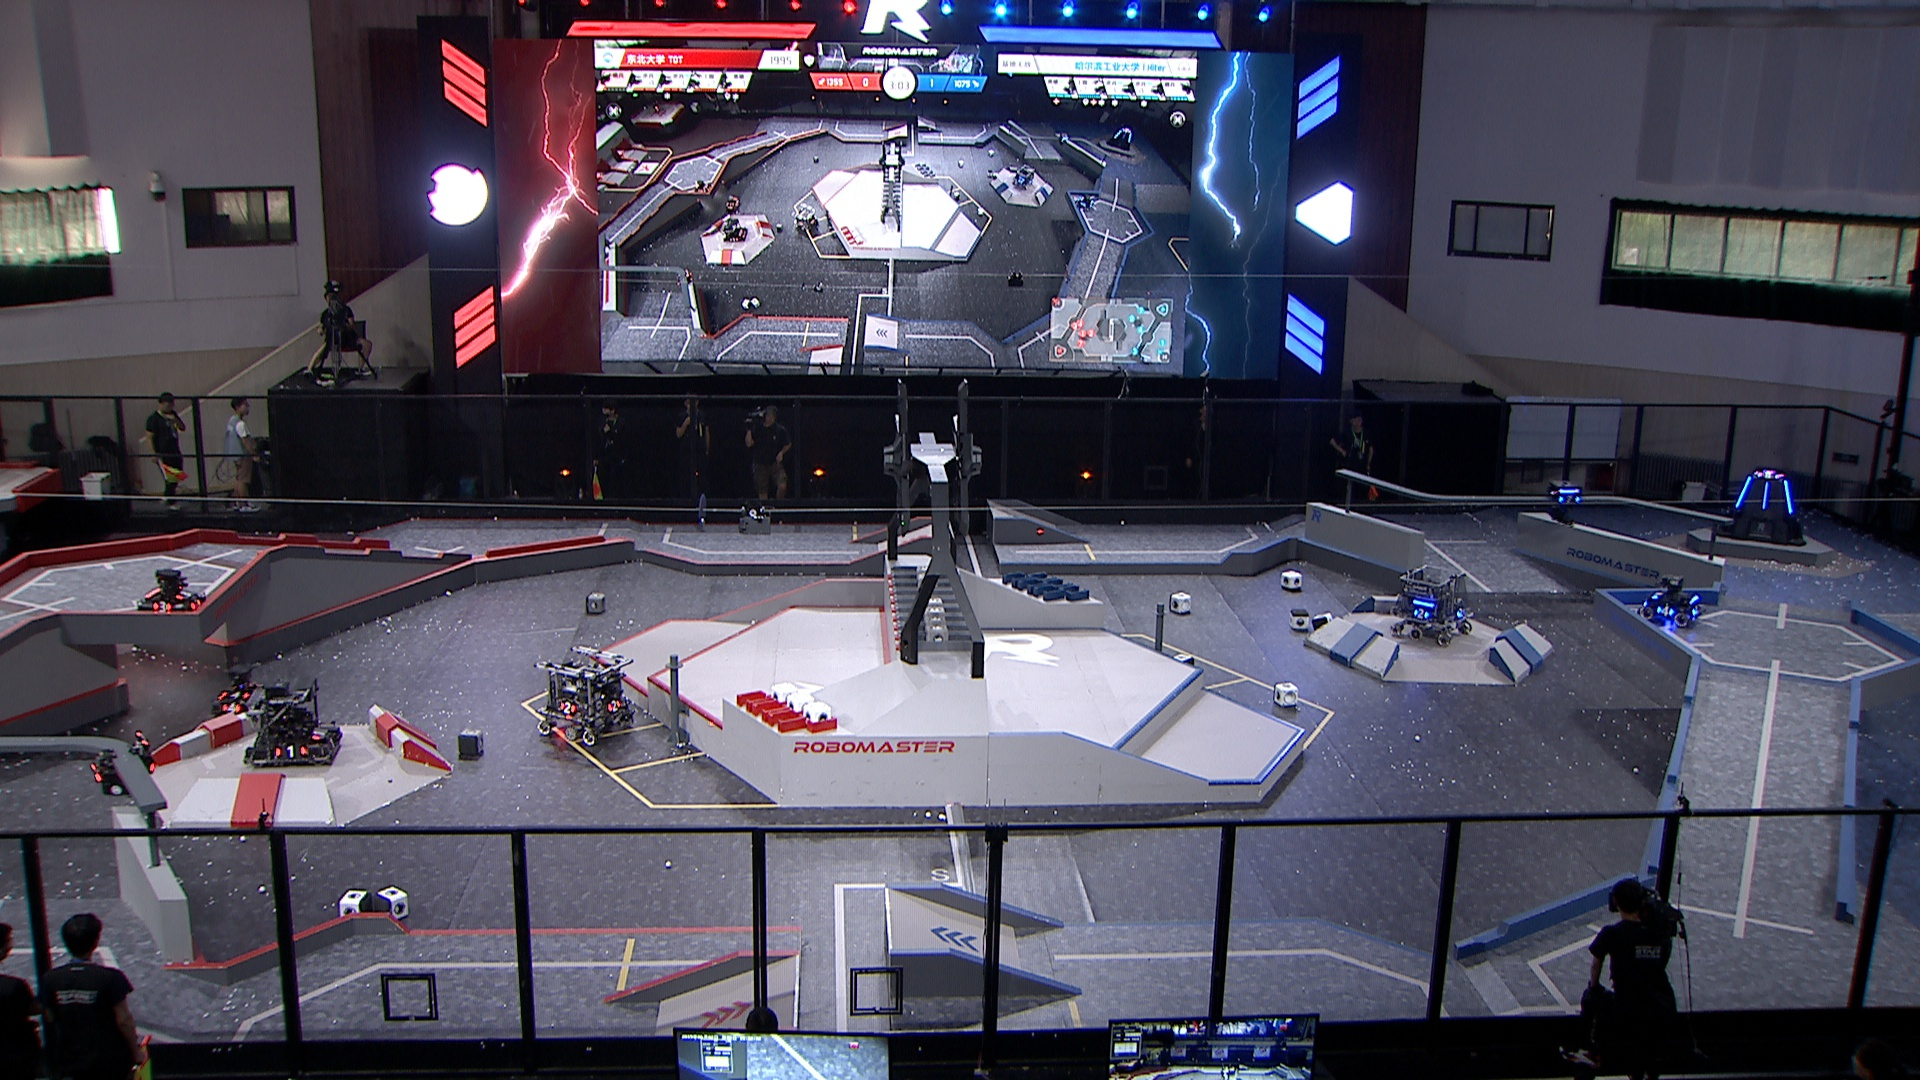armor: (1731, 472, 1755, 509), (272, 742, 309, 761), (1780, 479, 1797, 516), (220, 684, 252, 703), (87, 764, 109, 789), (1759, 476, 1774, 513), (320, 728, 342, 752), (555, 698, 578, 717), (1557, 491, 1582, 506), (1411, 604, 1432, 622), (1652, 604, 1677, 618), (153, 599, 174, 616), (306, 725, 324, 742), (173, 585, 191, 603), (603, 698, 622, 713), (219, 700, 243, 713), (1452, 603, 1468, 622)
base: (1714, 465, 1809, 547)
car: (527, 637, 636, 746), (244, 679, 343, 766), (1387, 567, 1476, 647), (131, 564, 210, 618), (1636, 576, 1704, 632), (211, 665, 266, 717)
ignore: (1105, 124, 1138, 153), (793, 200, 820, 233), (1007, 164, 1038, 191), (723, 219, 746, 243), (719, 193, 744, 214), (1756, 469, 1783, 481)
watcher: (84, 731, 162, 804), (1542, 475, 1582, 524)
